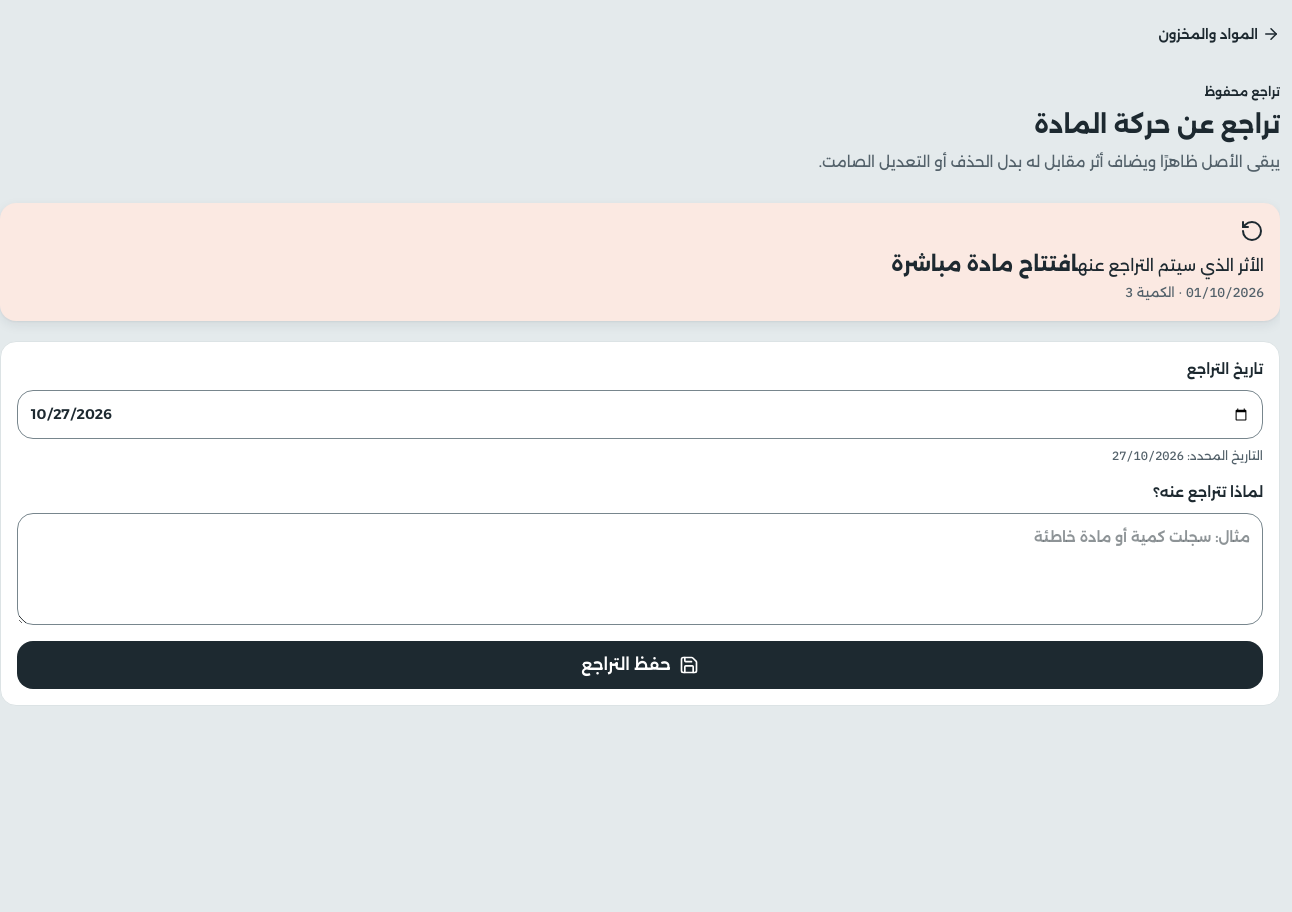
Test: InventoryReversalEditor — direct page-boundary behavior (R9-W3 + R9 continuation) › rejects a second reversal of the same movement honestly through the service boundary (alert role, no second record)
In the text box: (640, 569) [17, 513, 1263, 625], type "محاولة ثانية"
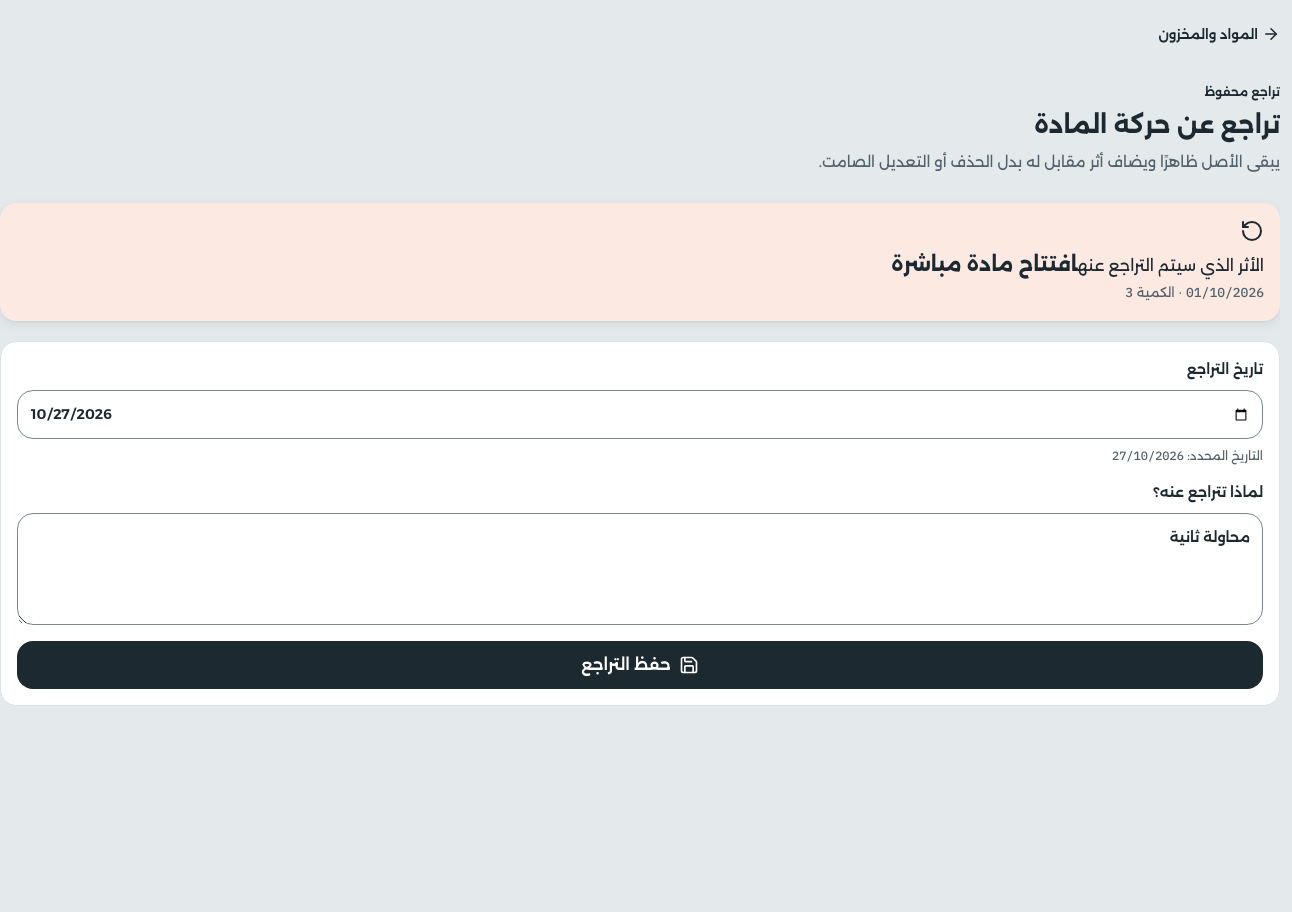
Click the button "حفظ التراجع": (640, 665) [17, 641, 1263, 689]
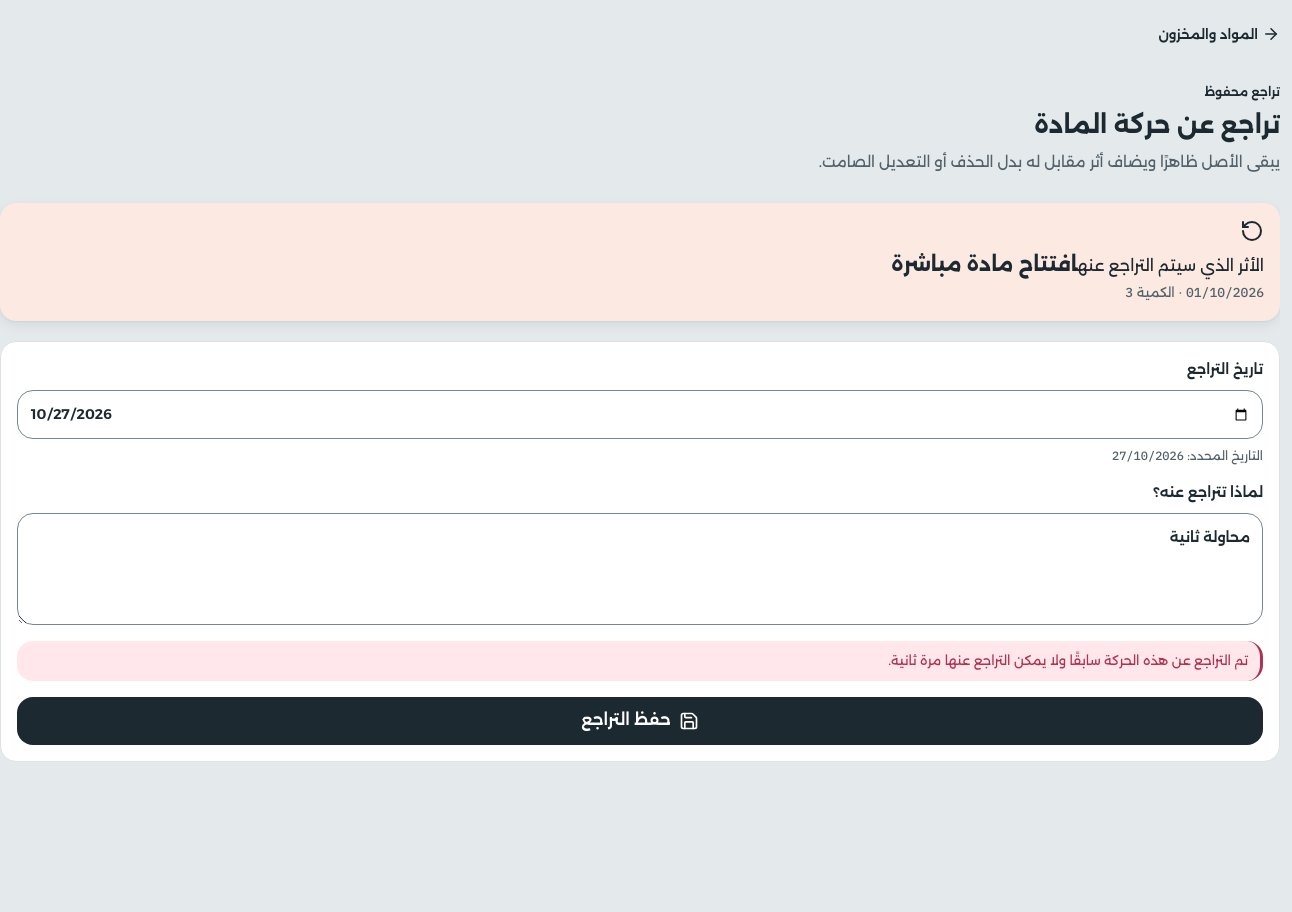
Expected: the message "تم التراجع عن هذه الحركة سابقًا ولا يمكن التراجع عنها مرة ثانية." is shown, [17, 641, 1263, 681]
